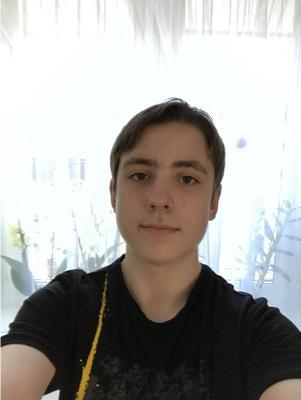without_mask: (114, 155, 212, 264)
